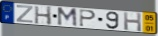9: (106, 11, 120, 30)
H: (122, 11, 143, 33), (34, 6, 53, 26)
M: (57, 7, 79, 28)
P: (79, 9, 97, 28)
Z: (15, 4, 34, 24)
